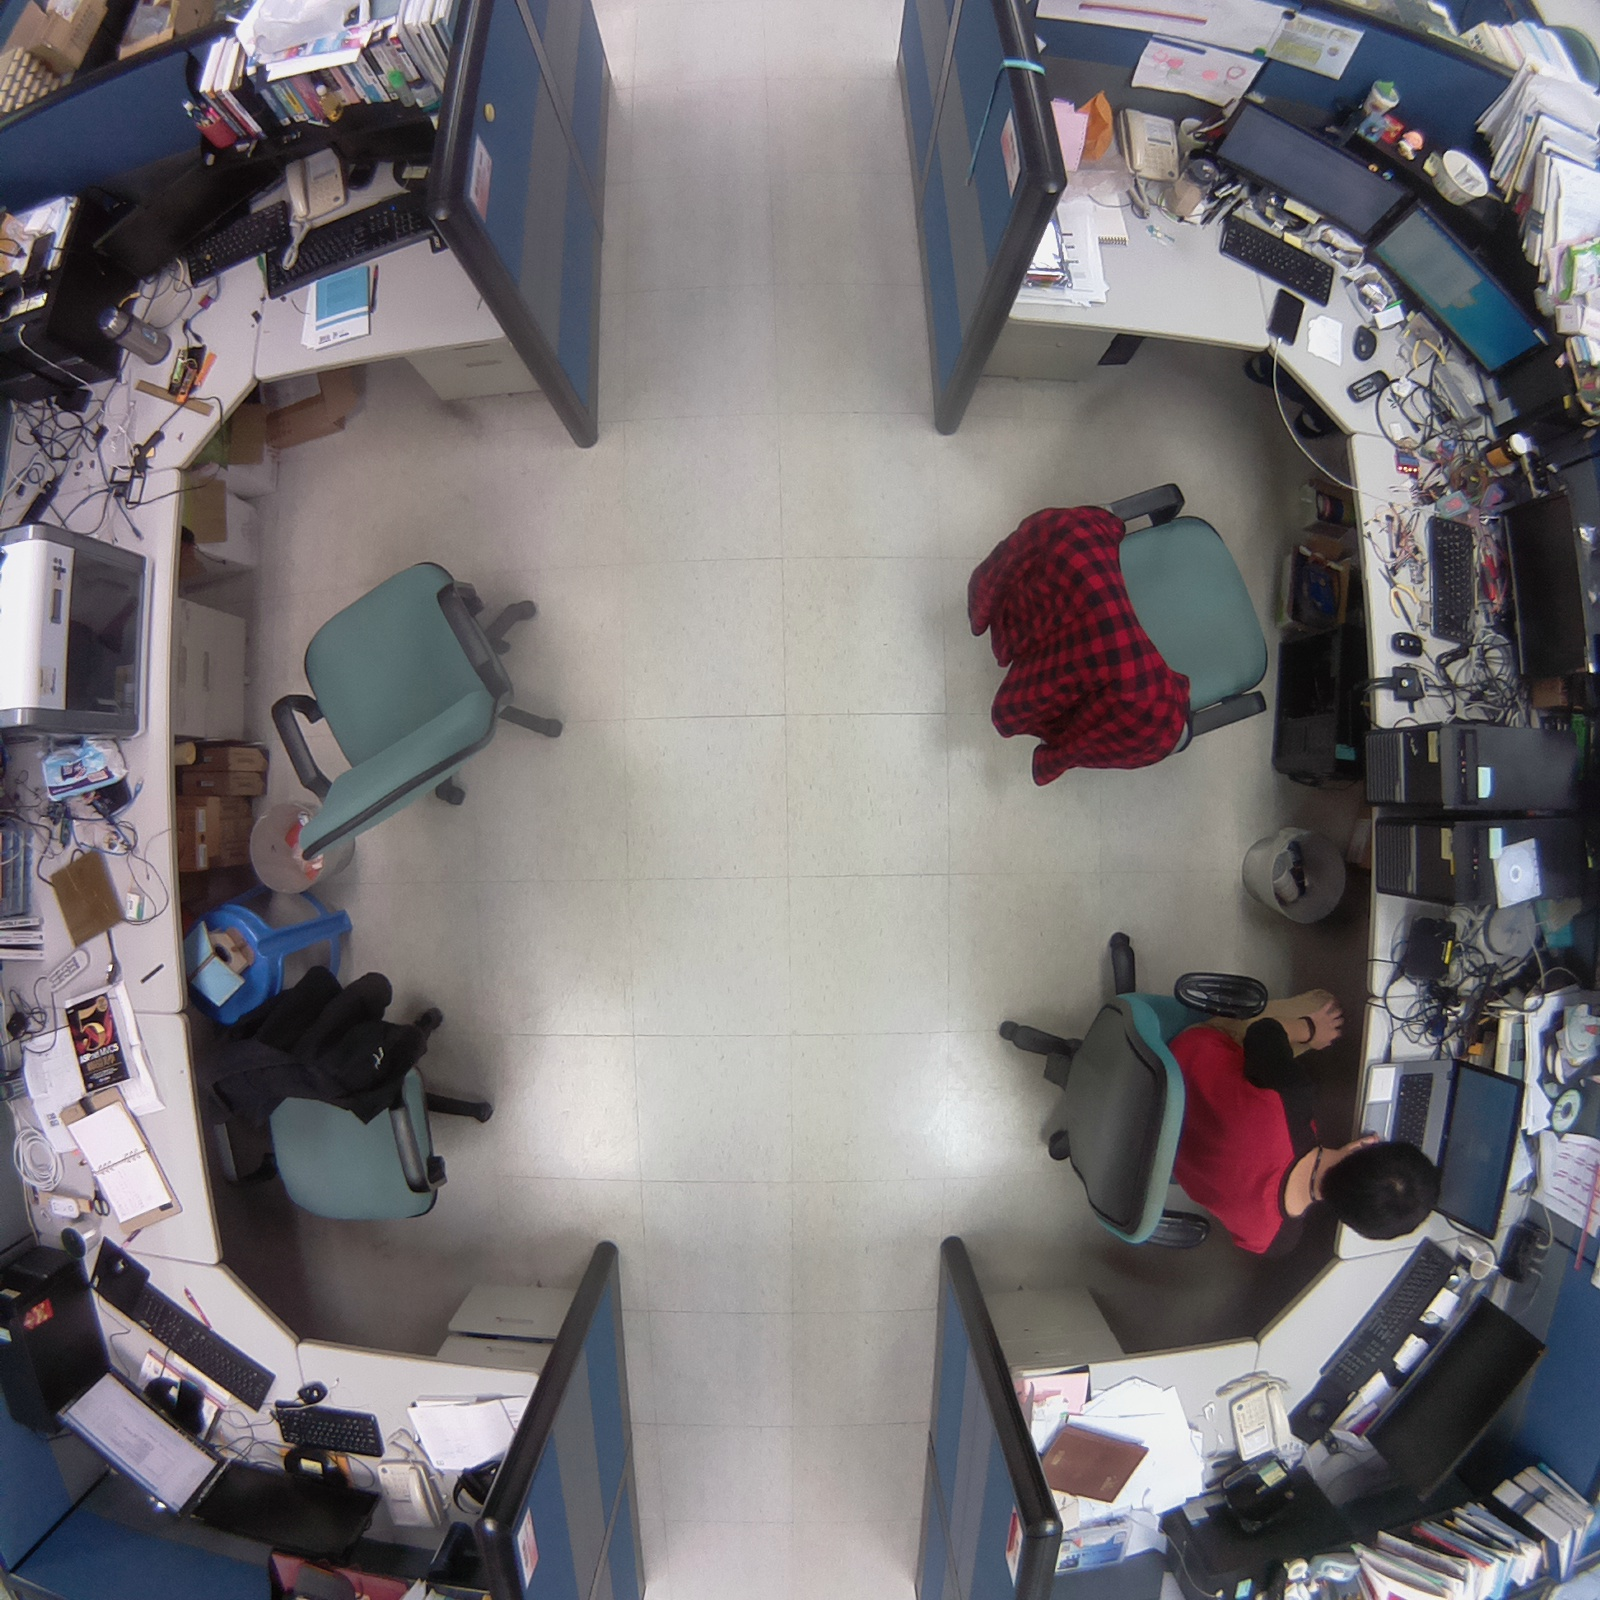chair: (255, 522, 601, 886), (937, 458, 1281, 804), (217, 940, 517, 1237)
head: (1310, 1129, 1446, 1244)
sitting: (978, 914, 1444, 1260)
